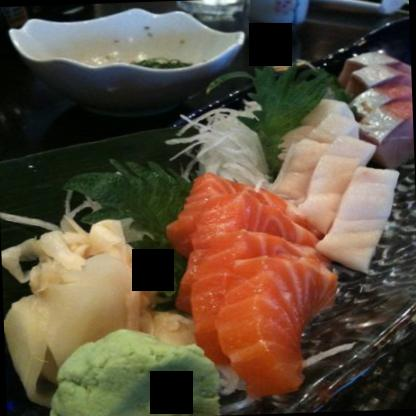salmon: (174, 174, 344, 392)
